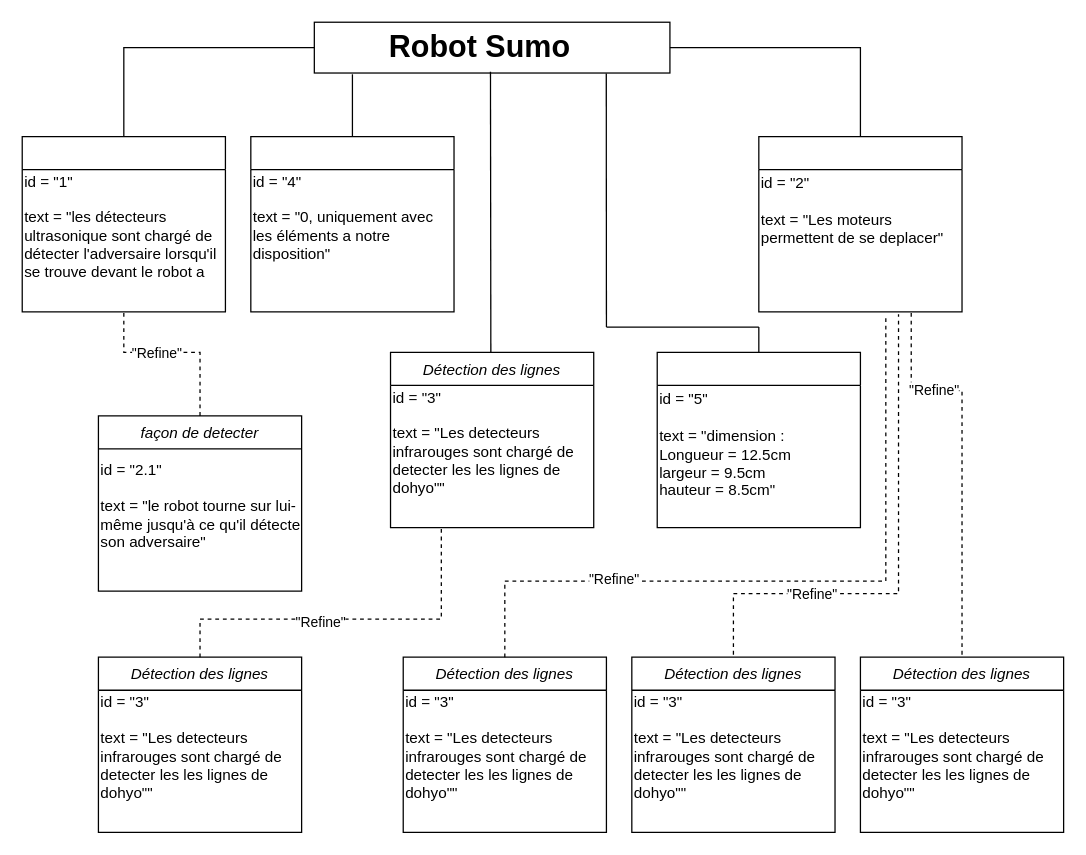
Image size: 1086x855. Some labels were removed from this diagram. Here are the shapes that lost their labels. From the top down, the box of each, then its label:
(21, 135, 225, 312): détection adversaire
(250, 135, 454, 312): Budget
(758, 135, 962, 312): Déplacement
(656, 351, 860, 528): caractéristiques physique
